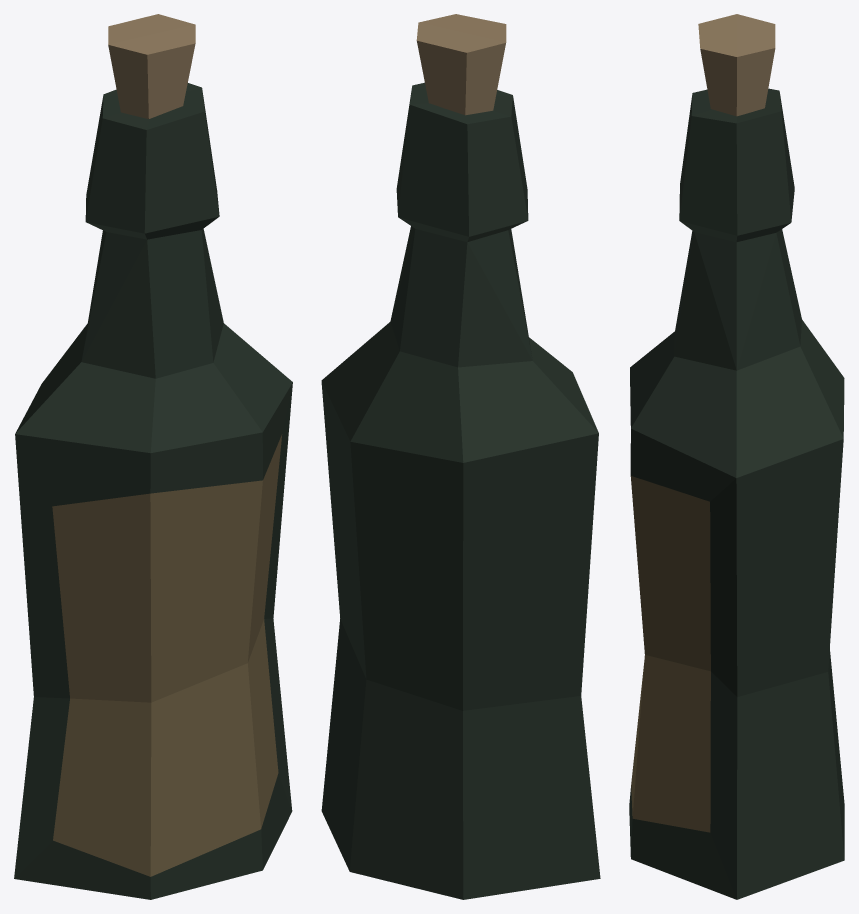
File: Bottle01.fbx
3 renders of one model, left to right at view 1: azimuth 30°, elevation 25°; view 2: azimuth 150°, elevation 25°; view 3: azimuth 270°, elevation 25°, orthographic.
Visible parts, largest first — view 1: Bottle01; view 2: Bottle01; view 3: Bottle01.
Part boxes in pixels (x1=…): Bottle01: x1=14, y1=14, x2=292, y2=899; Bottle01: x1=321, y1=14, x2=600, y2=899; Bottle01: x1=629, y1=14, x2=844, y2=899.
Size of the model in its own units: 0.3578 by 1.03 by 0.2439.
